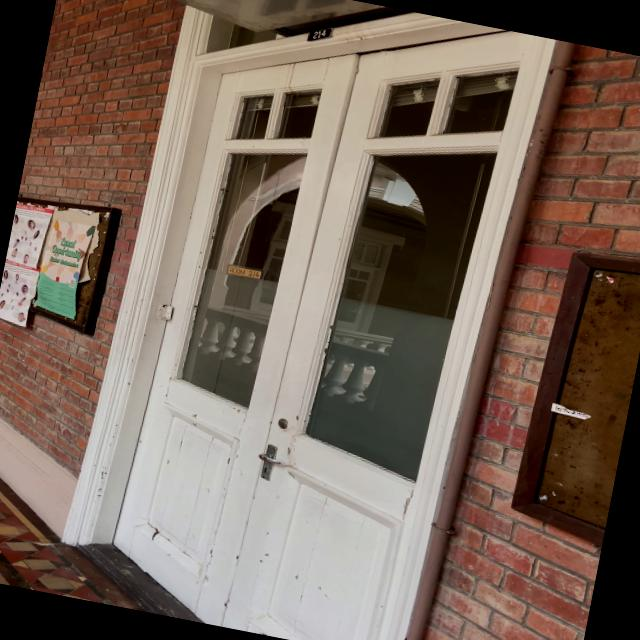room214: (308, 24, 332, 45)
room214Window: (222, 262, 266, 282)
